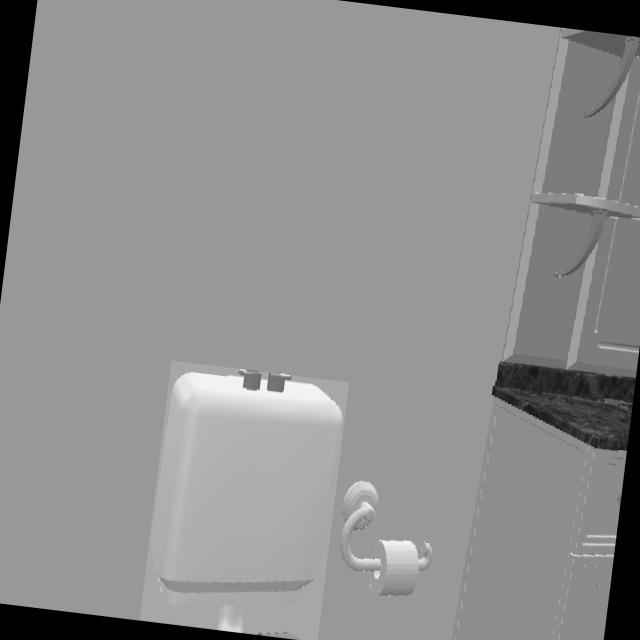toilet: (148, 369, 343, 632)
